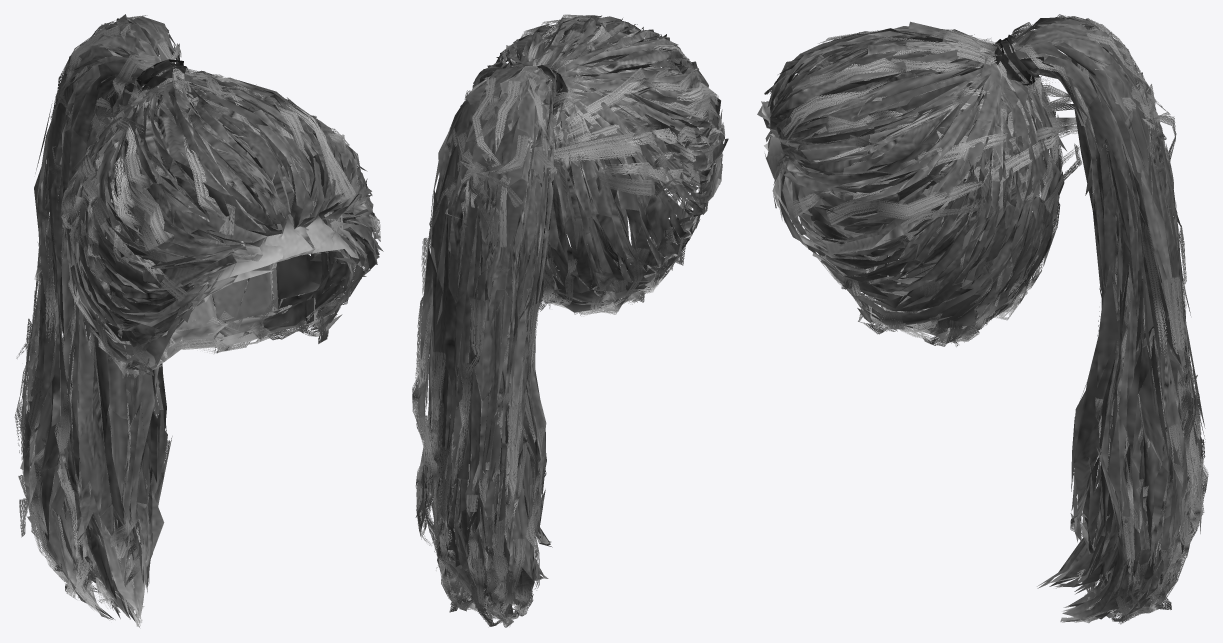
File: hair_ponytail.glb
3 renders of one model, left to right at view 1: azimuth 30°, elevation 25°; view 2: azimuth 150°, elevation 25°; view 3: azimuth 270°, elevation 25°, orthographic. The views are drawn at different scales.
Parts seen in each view (by area): view 1: Mesh_0, haircards; view 2: Mesh_0, haircards; view 3: Mesh_0, haircards.
Part boxes in pixels (x1=…): Mesh_0: x1=20, y1=14, x2=383, y2=627; haircards: x1=14, y1=15, x2=380, y2=627; Mesh_0: x1=415, y1=15, x2=728, y2=619; haircards: x1=412, y1=14, x2=724, y2=627; Mesh_0: x1=757, y1=15, x2=1205, y2=622; haircards: x1=764, y1=14, x2=1208, y2=624.
Size of the model in its own units: 0.2003 by 0.451 by 0.3048.
Materials: 2 (2 with a texture image).
